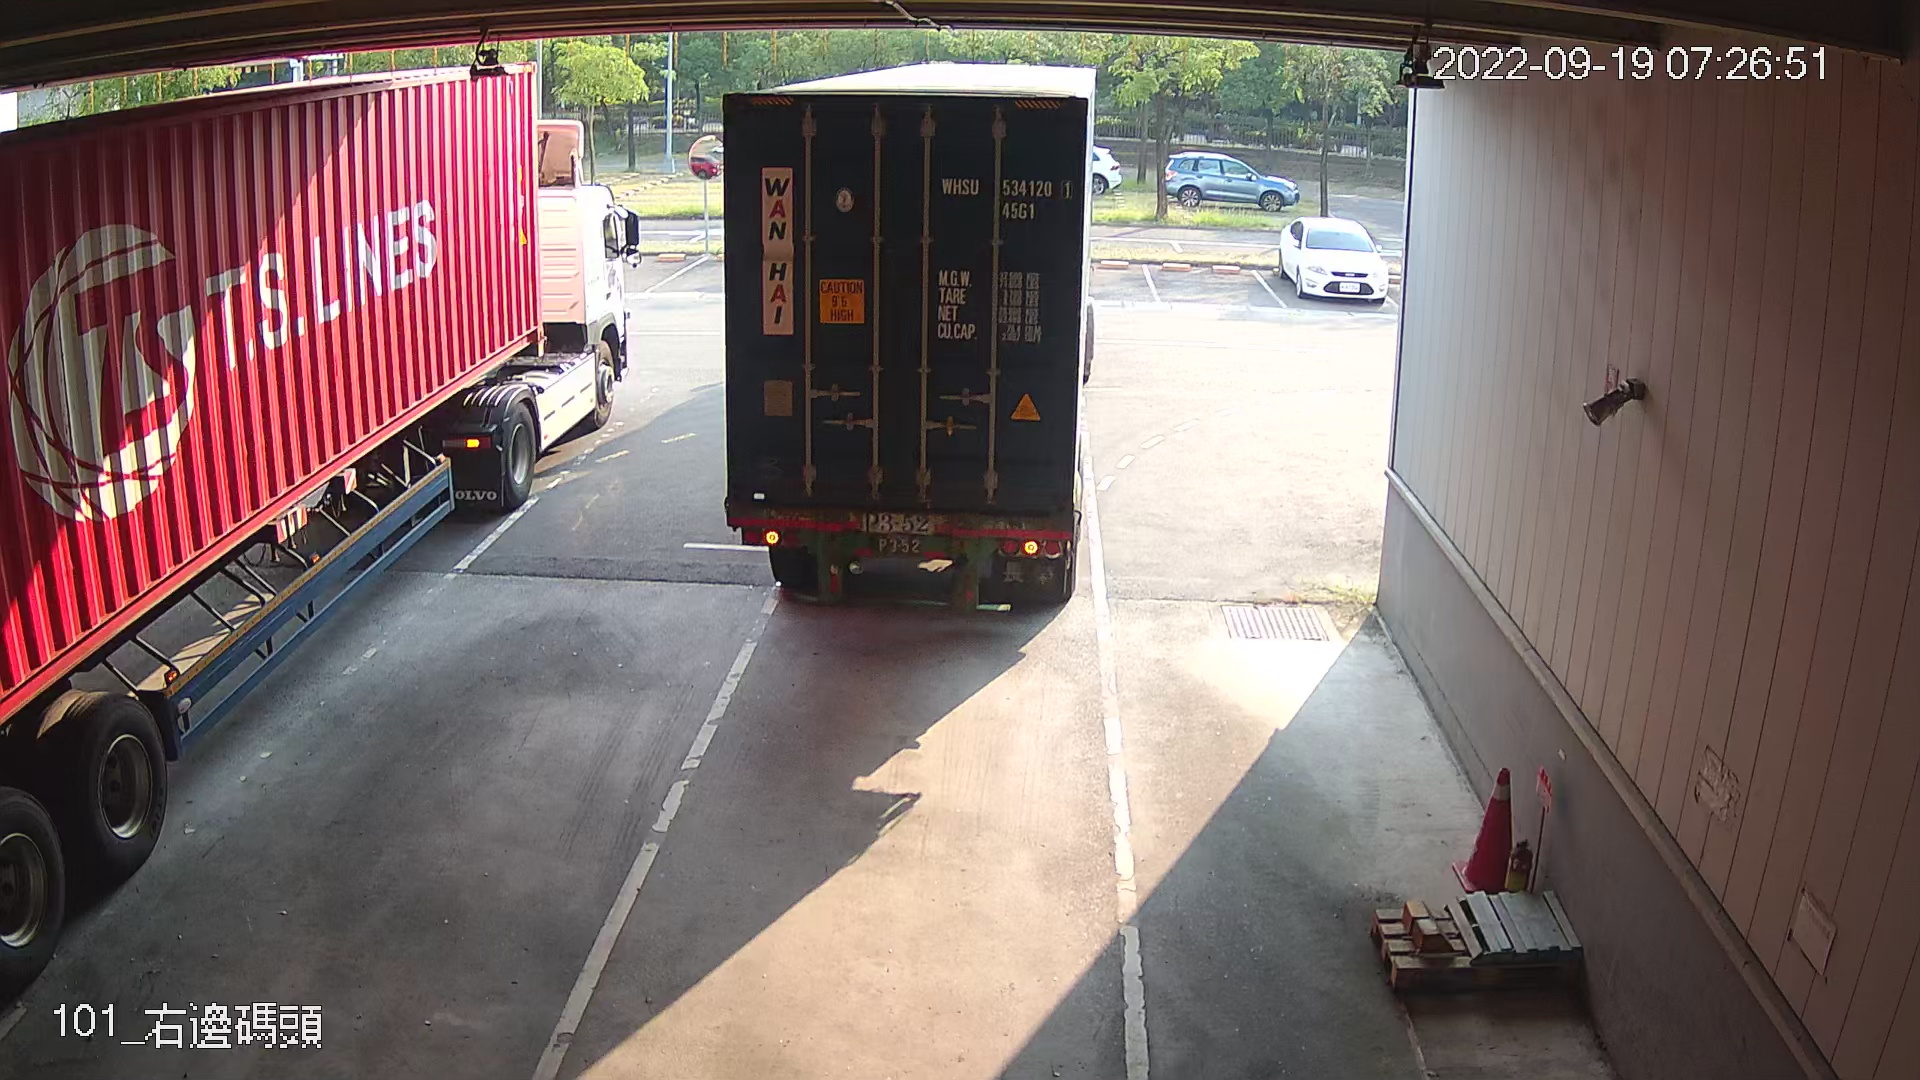container: (938, 167, 1081, 229)
